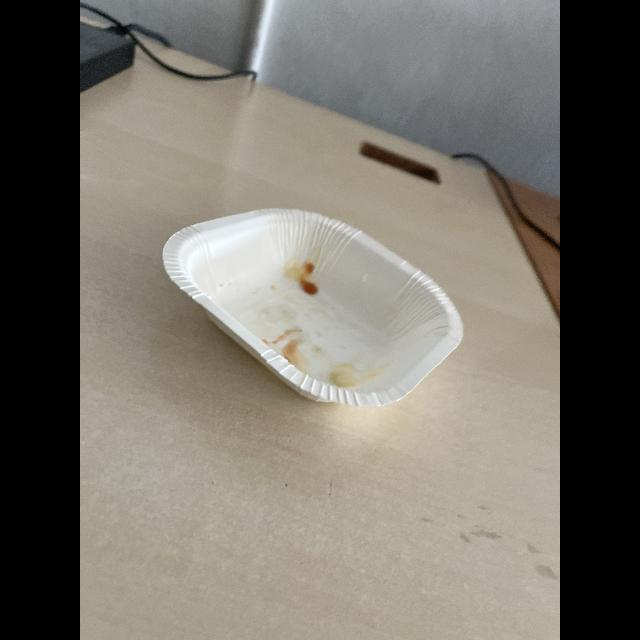cardboard_bowl: (150, 197, 470, 427)
